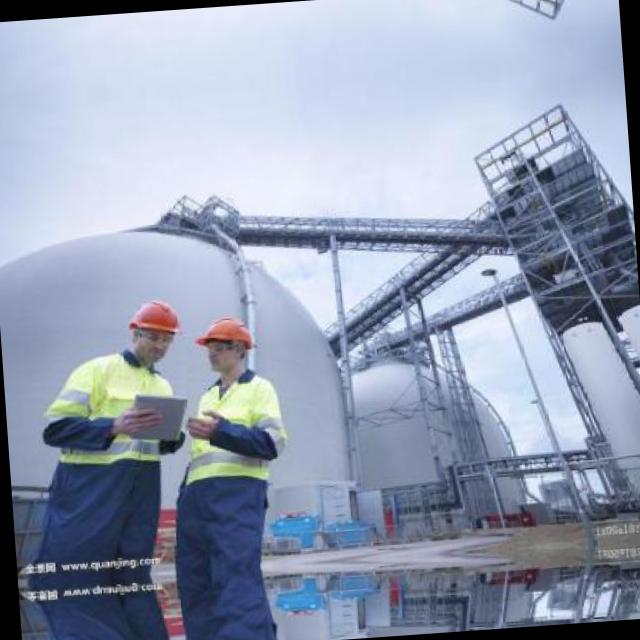helmet: (190, 308, 259, 379), (120, 291, 185, 363)
